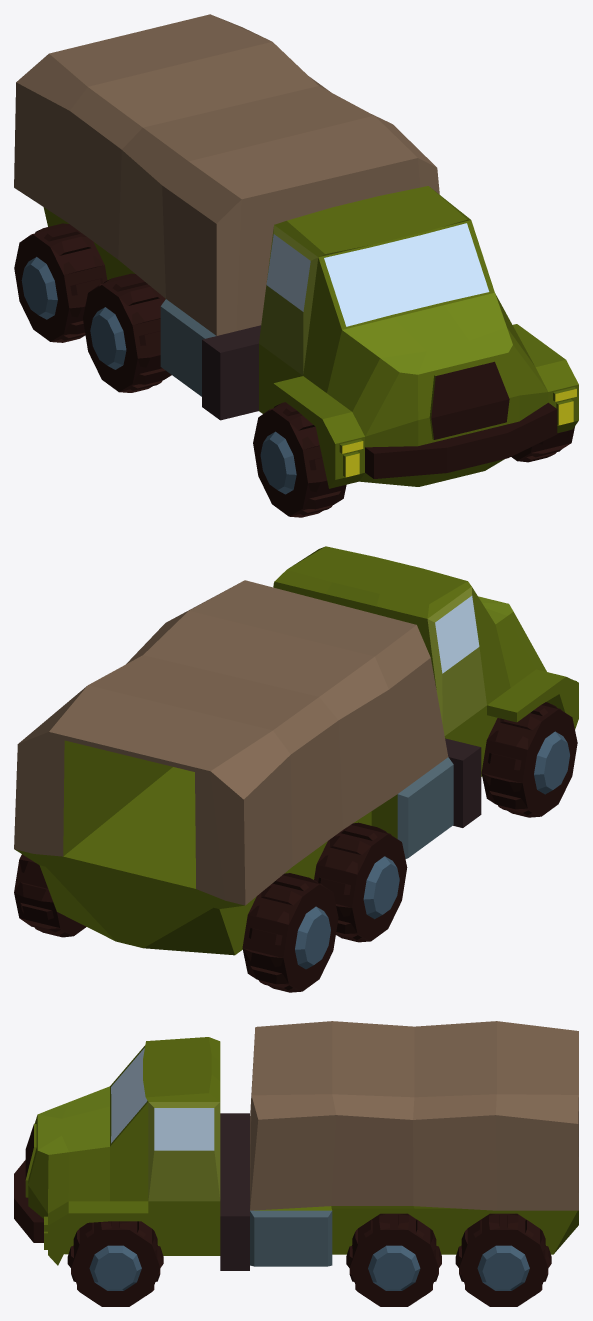
The model's file is URALTruck2.fbx.
3 views of the same model, one above another, from view 1: azimuth 30°, elevation 25°; view 2: azimuth 150°, elevation 25°; view 3: azimuth 270°, elevation 25° (orthographic). The views are drawn at different scales.
Visible parts, largest first — view 1: UralRunko, Rengas.005, Rengas.000, Rengas.004, Rengas.001; view 2: UralRunko, Rengas.005, Rengas.004, Rengas.000, Rengas.007; view 3: UralRunko, Rengas.007, Rengas.006, Rengas.001.
Boxes of the visible parts, left/top/right/bottom form: UralRunko: left=14, top=14, right=578, bottom=488; Rengas.005: left=14, top=223, right=107, bottom=342; Rengas.000: left=83, top=273, right=171, bottom=392; Rengas.004: left=253, top=402, right=346, bottom=517; Rengas.001: left=511, top=427, right=574, bottom=462; UralRunko: left=14, top=546, right=578, bottom=955; Rengas.005: left=242, top=873, right=338, bottom=992; Rengas.004: left=481, top=702, right=577, bottom=817; Rengas.000: left=314, top=822, right=407, bottom=942; Rengas.007: left=14, top=854, right=86, bottom=937; UralRunko: left=14, top=1021, right=578, bottom=1270; Rengas.007: left=455, top=1213, right=551, bottom=1306; Rengas.006: left=346, top=1213, right=441, bottom=1306; Rengas.001: left=67, top=1221, right=163, bottom=1306.
Size of the model in its own units: 245 by 203 by 522.
